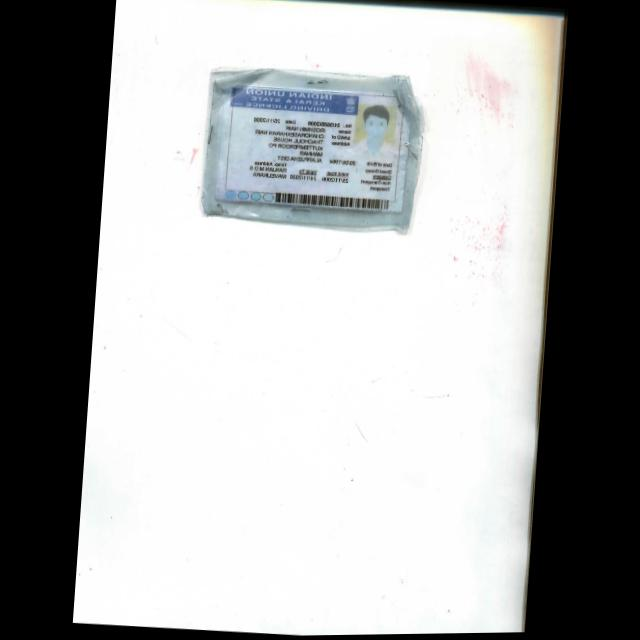driving_licence: (213, 77, 412, 220)
